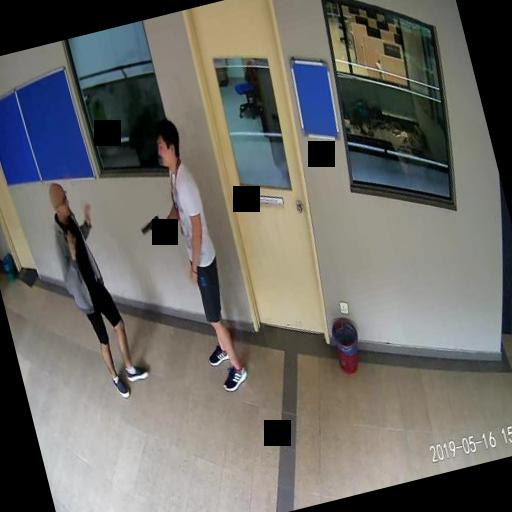Handgun: (136, 213, 164, 242)
